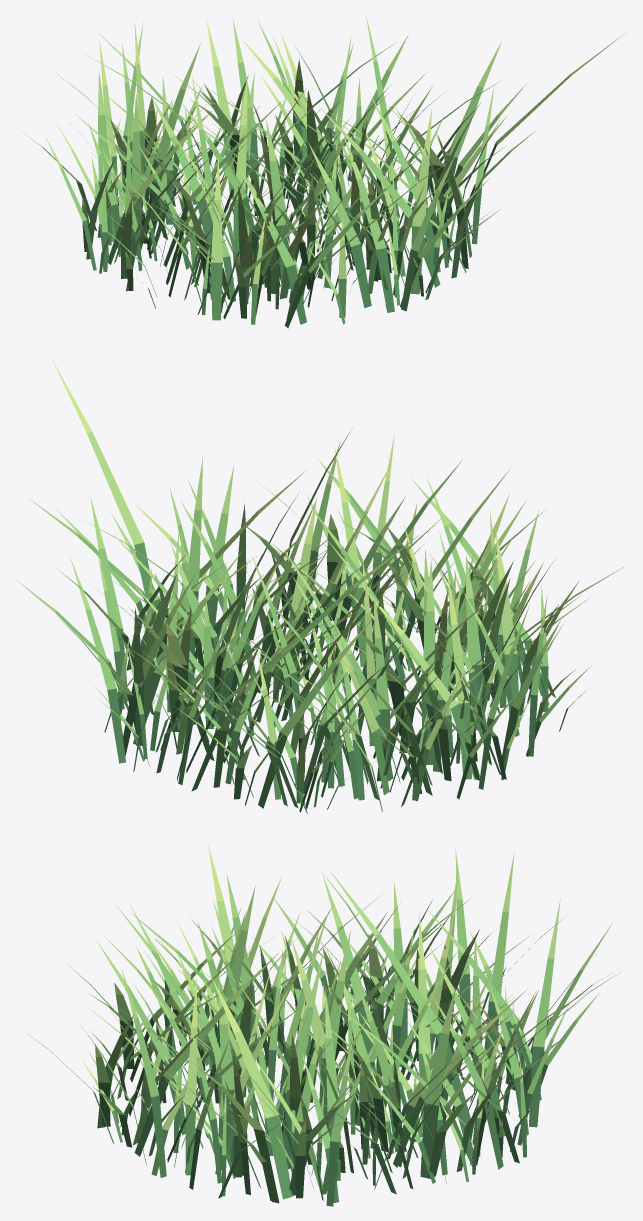
The model's file is Grass_02_Tall.glb.
The picture shows the model from 3 angles, top to bottom: view 1: azimuth 30°, elevation 25°; view 2: azimuth 150°, elevation 25°; view 3: azimuth 270°, elevation 25°; orthographic projection. The views are drawn at different scales.
Visible parts, largest first — view 1: Grass_02_Tall; view 2: Grass_02_Tall; view 3: Grass_02_Tall.
Part boxes in pixels (bbox=[...]): Grass_02_Tall: bbox=[21, 15, 623, 328]; Grass_02_Tall: bbox=[16, 358, 623, 813]; Grass_02_Tall: bbox=[23, 844, 620, 1206].
Size of the model in its own units: 2.78 by 0.9995 by 2.59.
